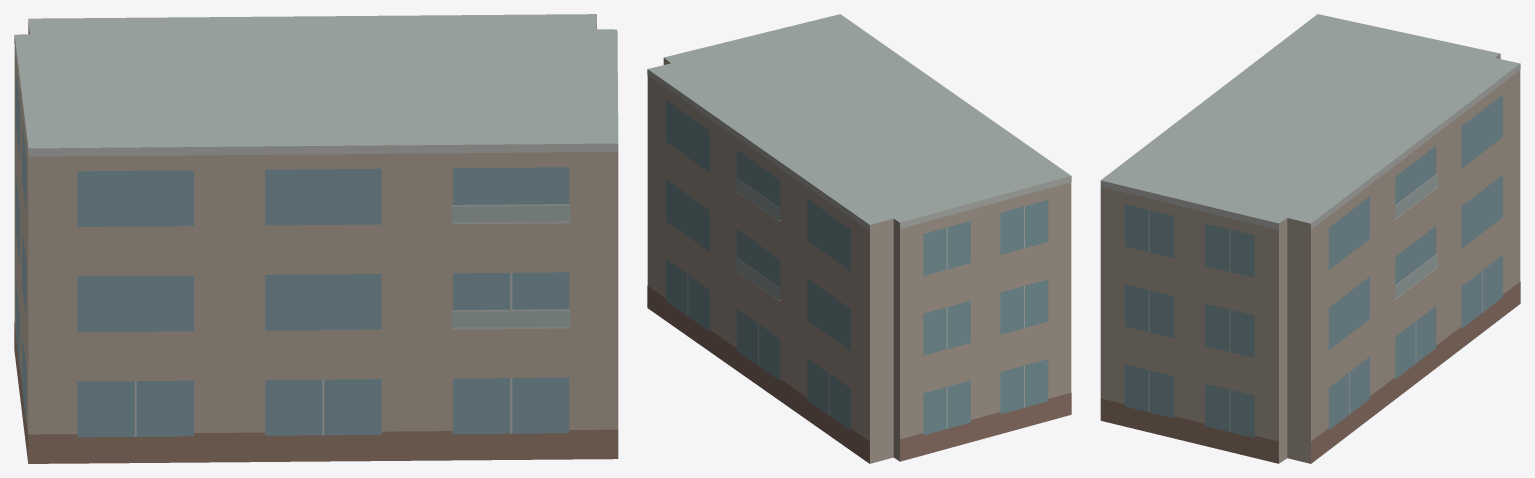
Rendered from survey-upis-32893717.glb.
3 views of the same model, side by side, from view 1: azimuth 30°, elevation 25°; view 2: azimuth 150°, elevation 25°; view 3: azimuth 270°, elevation 25° (orthographic). The views are drawn at different scales.
Visible parts, largest first — view 1: survey-upis-32893717.tmp; view 2: survey-upis-32893717.tmp; view 3: survey-upis-32893717.tmp.
Boxes of the visible parts, x1,y1,x2,y2 form: survey-upis-32893717.tmp: (14,14,618,463); survey-upis-32893717.tmp: (647,14,1071,463); survey-upis-32893717.tmp: (1100,14,1520,463).
Bounding box in the file's own units: 17.13 × 9.15 × 14.5.
